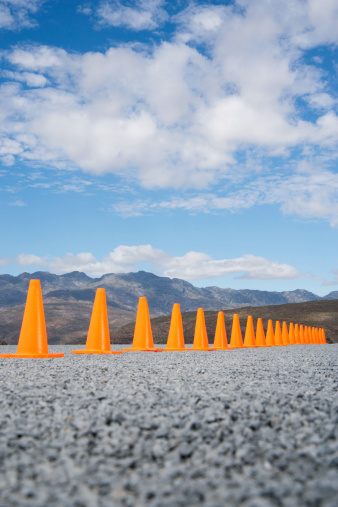trafficcone: (1, 277, 63, 360), (73, 288, 123, 354), (122, 296, 163, 352), (161, 302, 190, 352), (185, 308, 215, 352), (209, 310, 234, 349), (226, 314, 246, 348), (253, 318, 269, 348), (243, 315, 257, 347)
